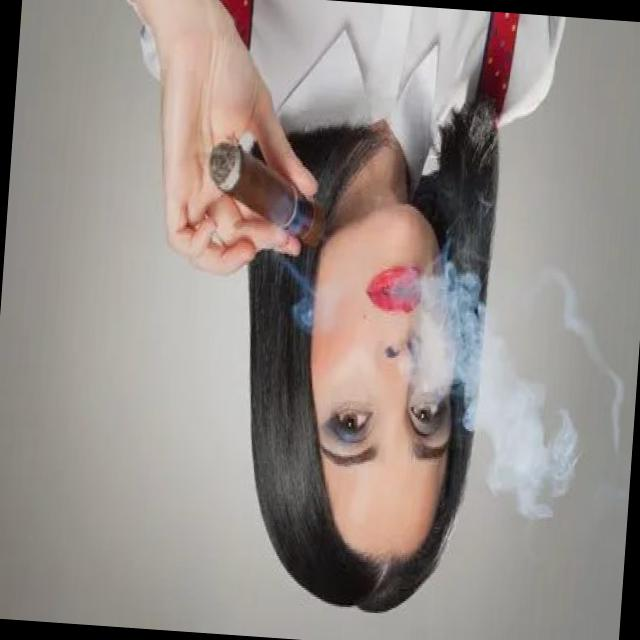cigarette: (198, 137, 332, 250)
